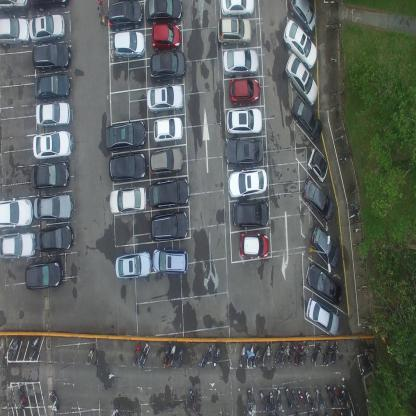car: (283, 18, 318, 69), (285, 52, 318, 106), (306, 261, 343, 305), (306, 297, 341, 341), (290, 95, 322, 143), (302, 177, 336, 222), (148, 176, 190, 209), (104, 119, 146, 151), (228, 165, 267, 199), (310, 224, 340, 268), (24, 258, 64, 290), (32, 40, 70, 72), (108, 151, 147, 182), (150, 210, 190, 240), (29, 12, 65, 45), (222, 47, 260, 78), (146, 82, 184, 113), (224, 138, 264, 167), (108, 0, 143, 33), (109, 185, 146, 216), (114, 250, 152, 280), (33, 130, 72, 159), (149, 146, 184, 178), (32, 193, 72, 221), (149, 52, 187, 81), (36, 224, 74, 253), (32, 72, 71, 100), (0, 197, 33, 230), (33, 160, 70, 189), (232, 200, 270, 228), (0, 230, 36, 259), (0, 16, 29, 50), (226, 107, 263, 133), (152, 248, 189, 274), (112, 31, 145, 60), (218, 18, 252, 46), (35, 101, 70, 128), (145, 0, 182, 25), (289, 0, 316, 34), (151, 23, 182, 52), (228, 79, 260, 106), (307, 146, 329, 183), (240, 233, 270, 260), (153, 117, 183, 143), (219, 0, 254, 18)
